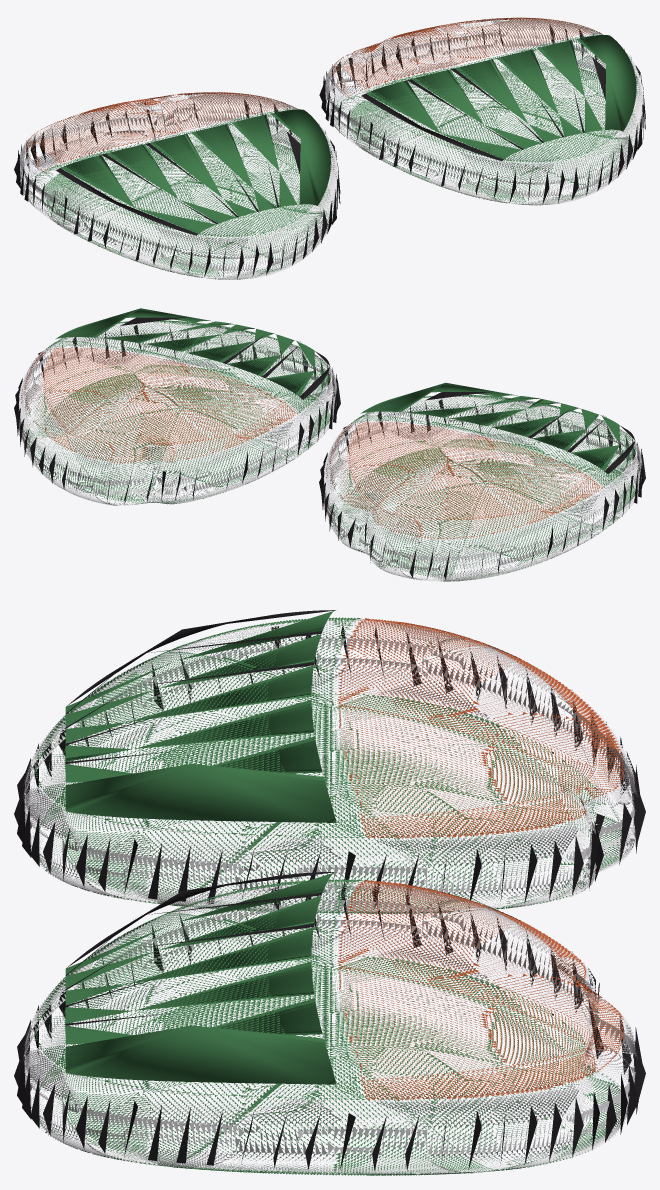
Rendered from focus-mitts.glb.
3 views of the same model, one above another, from view 1: azimuth 30°, elevation 25°; view 2: azimuth 150°, elevation 25°; view 3: azimuth 270°, elevation 25° (orthographic). The views are drawn at different scales.
Parts seen in each view (by area): view 1: mitt_FREDDIE; view 2: mitt_FREDDIE; view 3: mitt_FREDDIE.
Part boxes in pixels (box(x1,y1,x2,y2)): mitt_FREDDIE: box(14, 17, 645, 279); mitt_FREDDIE: box(14, 308, 645, 581); mitt_FREDDIE: box(14, 610, 645, 1175).
Size of the model in its own units: 0.5109 by 0.0751 by 0.2756.
3 materials, 3 textured.
